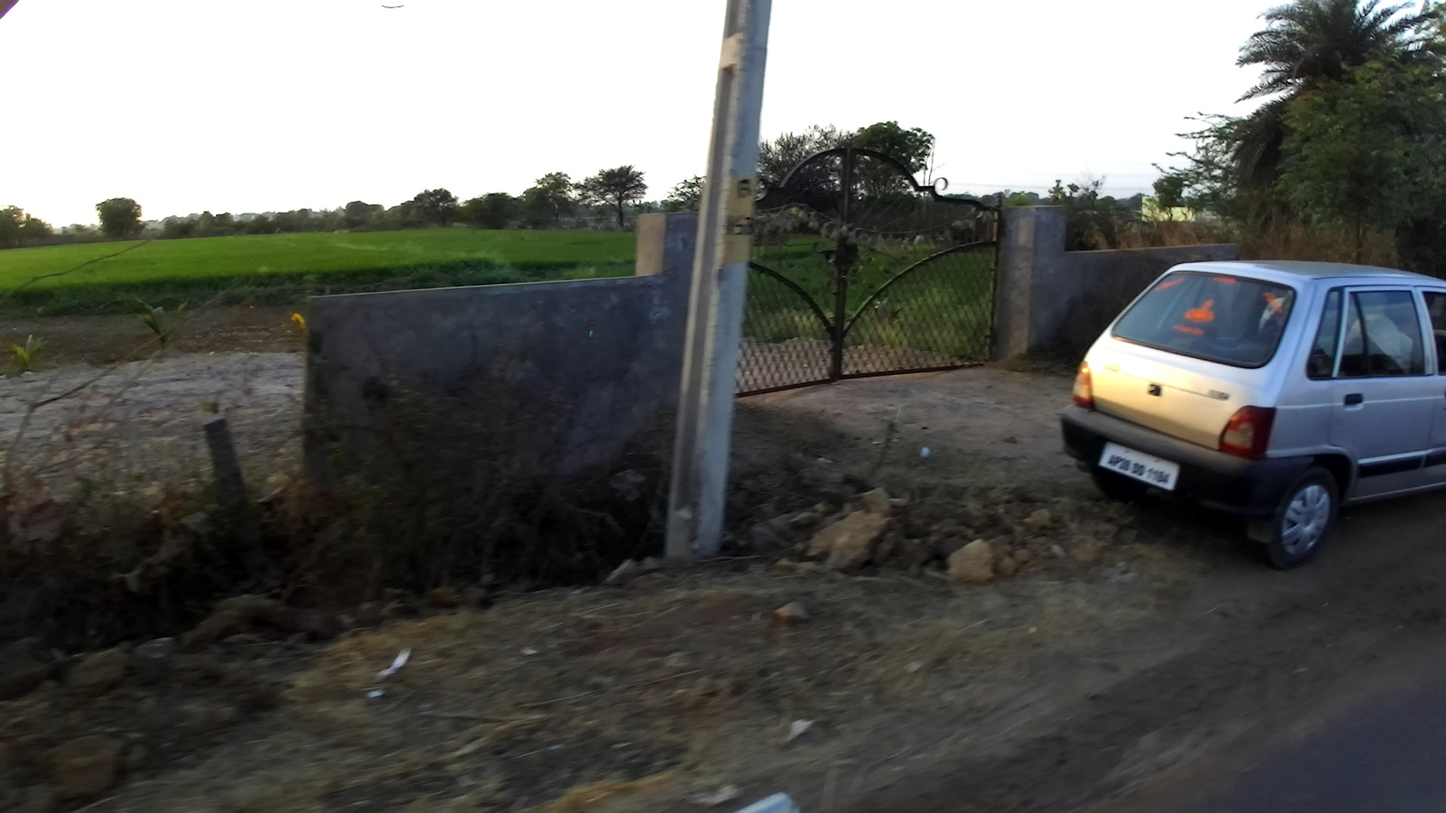car: (1059, 260, 1446, 573)
